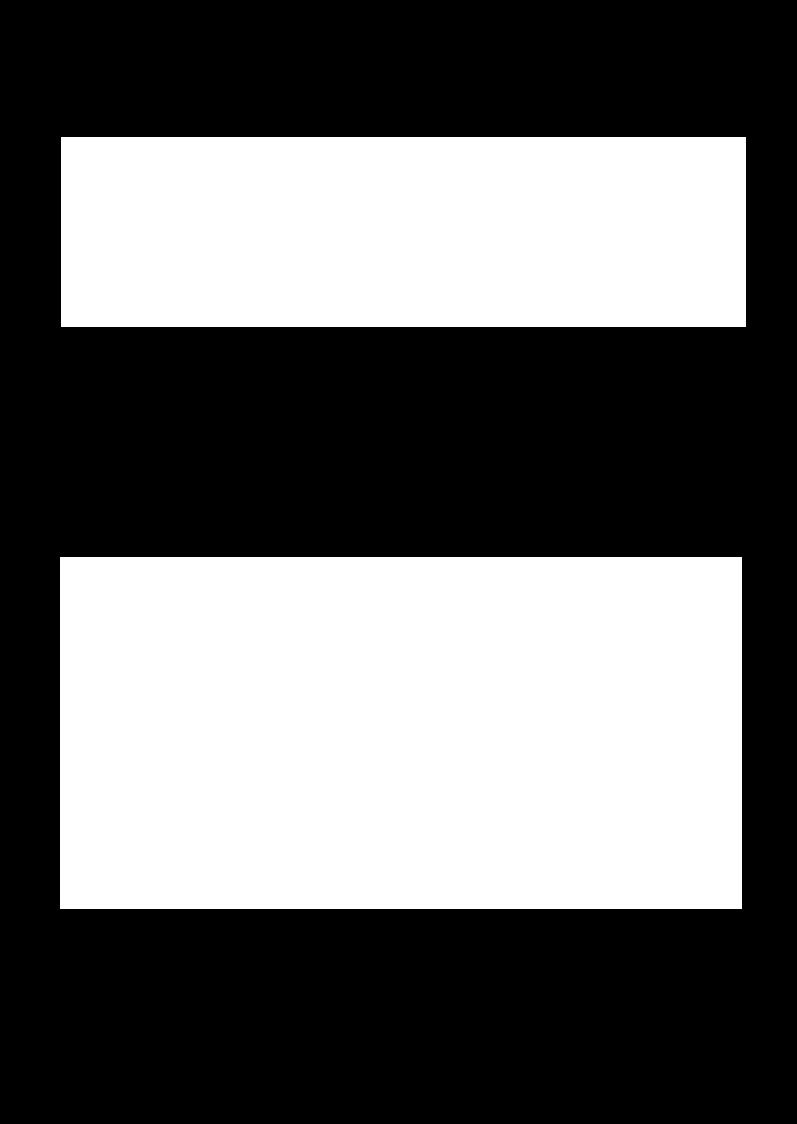table: (60, 557, 741, 908), (61, 137, 745, 326)
